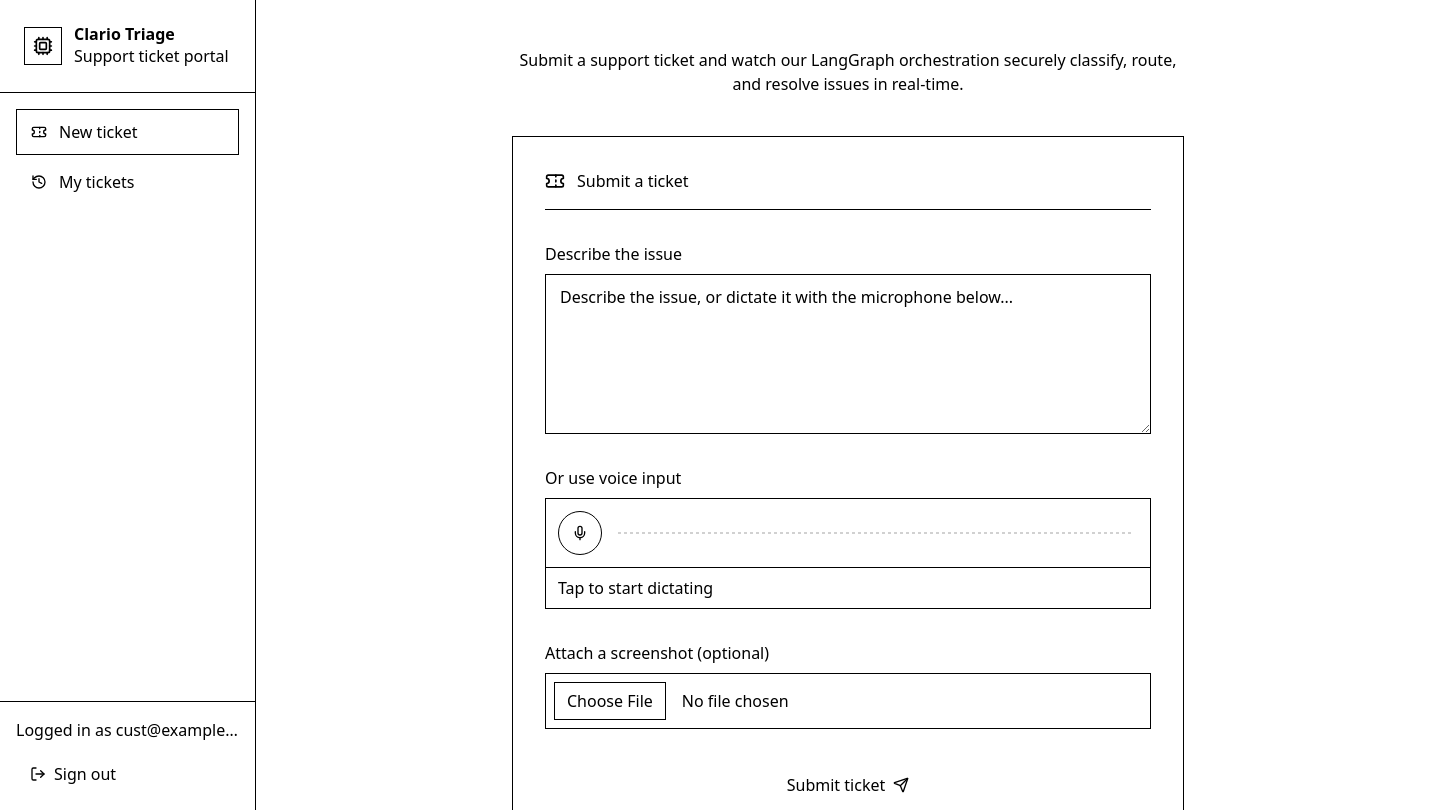
Test: customer dashboard - accessible structure › announces the success dialog by its title
Type "help" into the text box labelled "Describe the issue".
click(848, 354); type("help")  # box [545,274,1151,434]
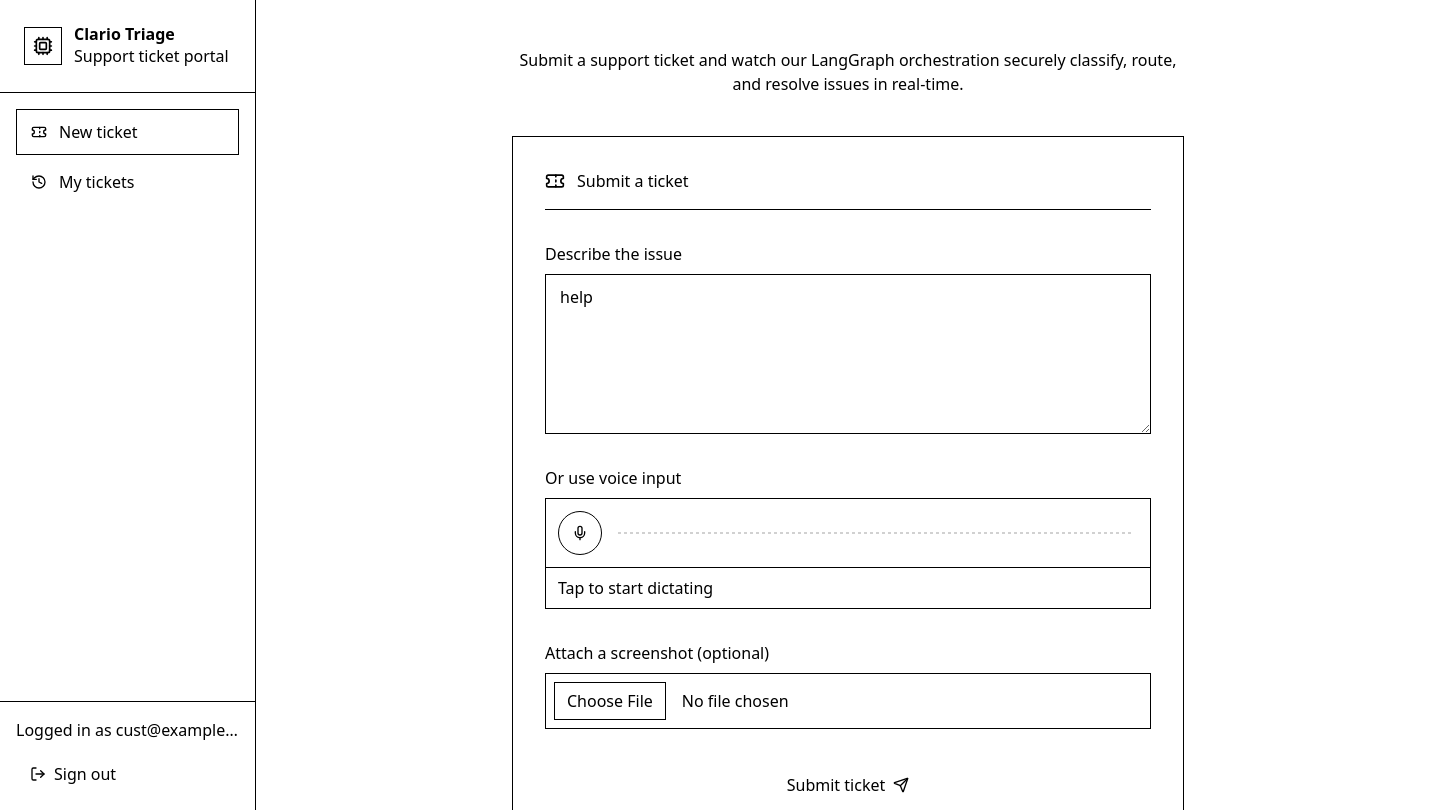
Click the button "Submit ticket".
click(848, 785)  # box [545,761,1151,809]
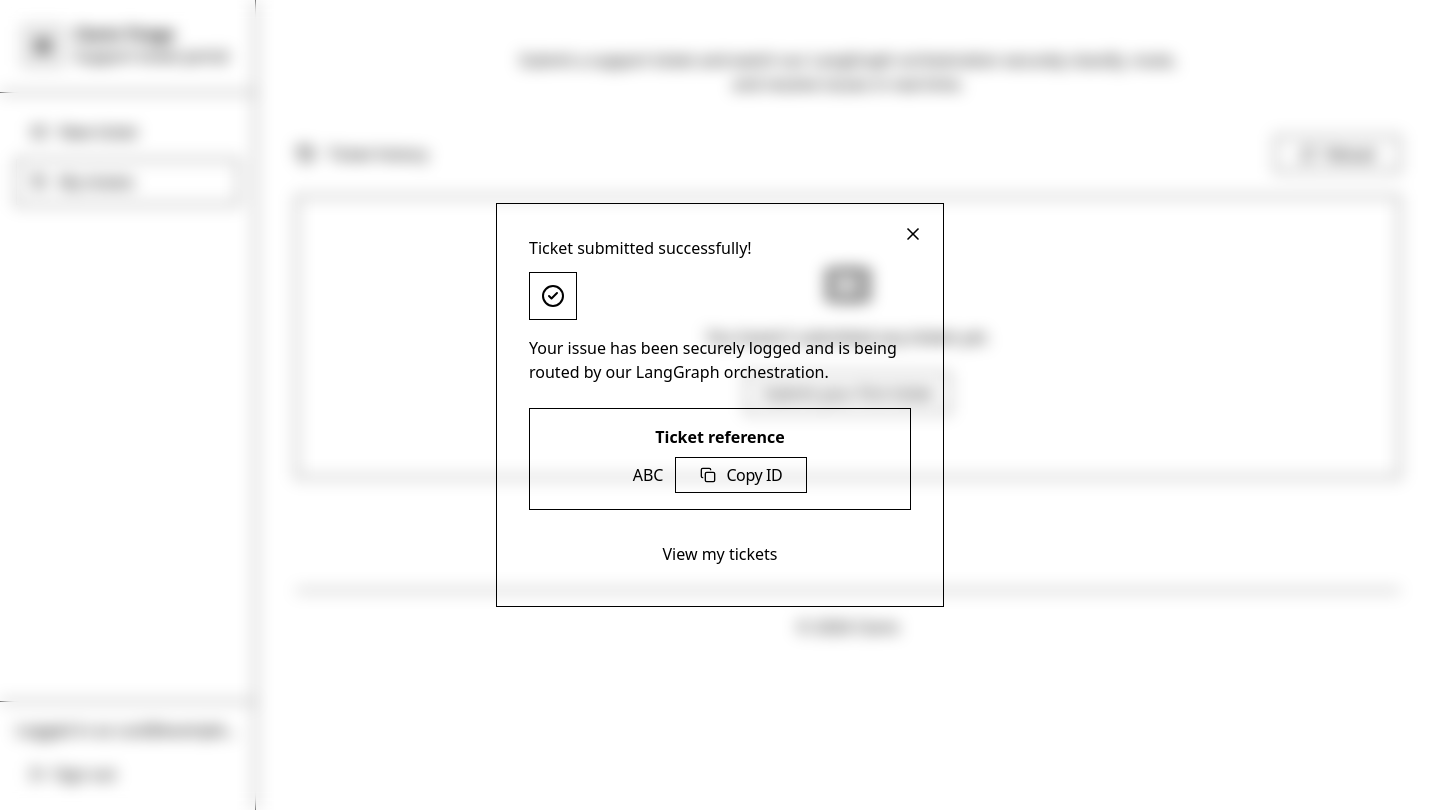
Expected: the text titled "abc-123" is shown, [633,463,664,487]
